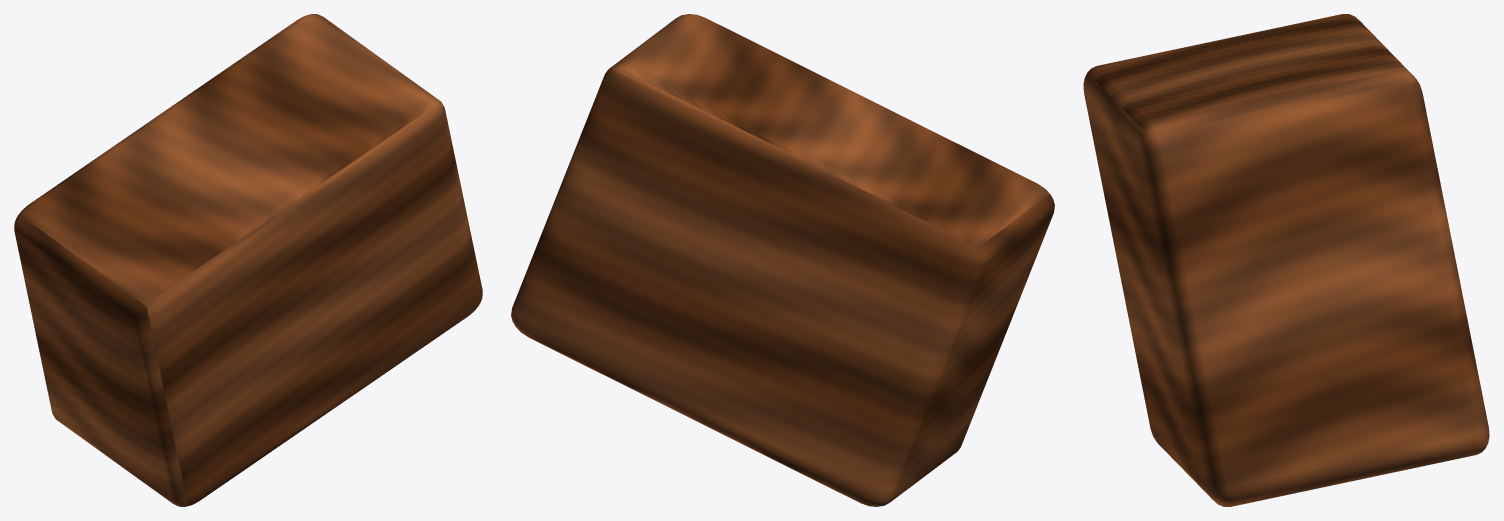
Rendered from WalnutWoodBlock.glb.
3 renders of one model, left to right at view 1: azimuth 30°, elevation 25°; view 2: azimuth 150°, elevation 25°; view 3: azimuth 270°, elevation 25°, orthographic. The views are drawn at different scales.
Parts seen in each view (by area): view 1: Cube; view 2: Cube; view 3: Cube.
Part boxes in pixels (x1,y1,x2,y2): Cube: (14, 14, 482, 506); Cube: (511, 14, 1054, 506); Cube: (1083, 14, 1489, 506).
Bounding box in the file's own units: 1.57 × 1.33 × 0.9643.
1 material, 1 textured.
